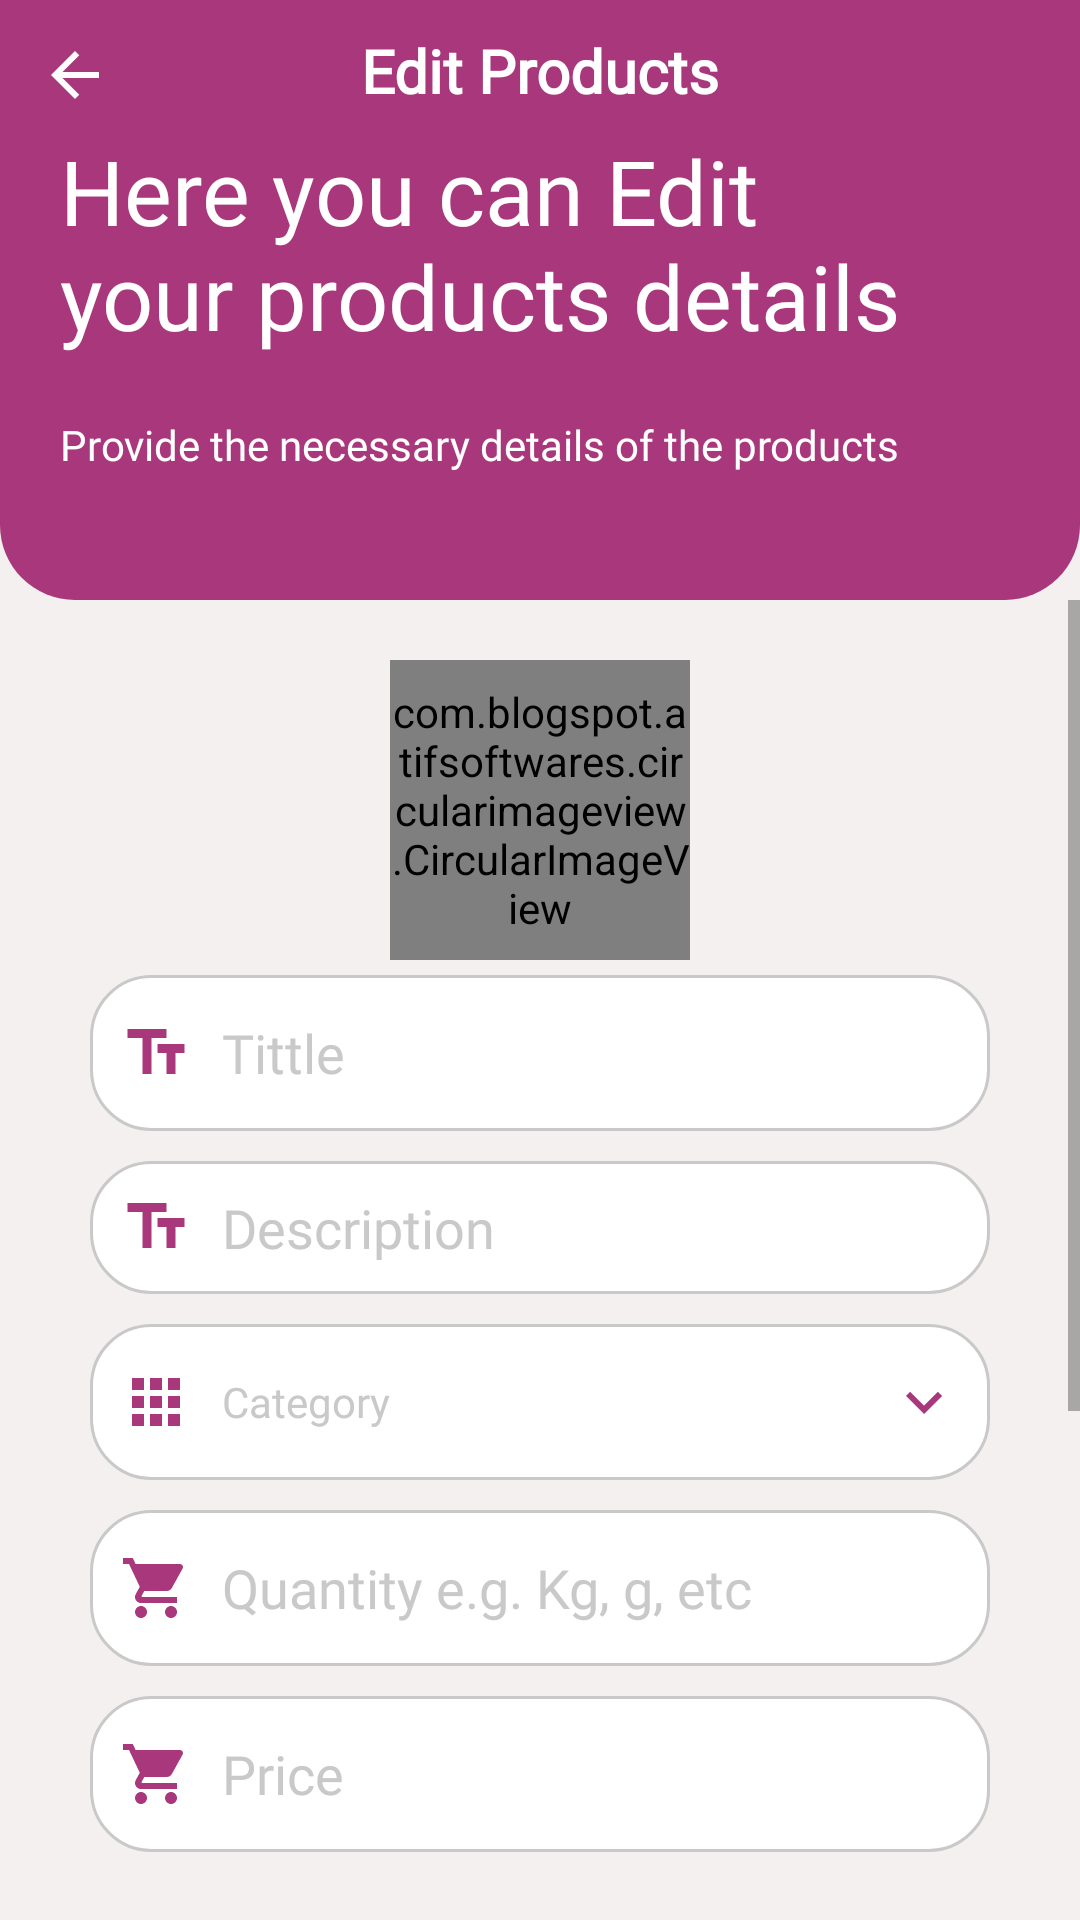

Named icons in this screenshot (1080px×1920px) and their centers, (x=x, y=y):
back: (x=75, y=75)
